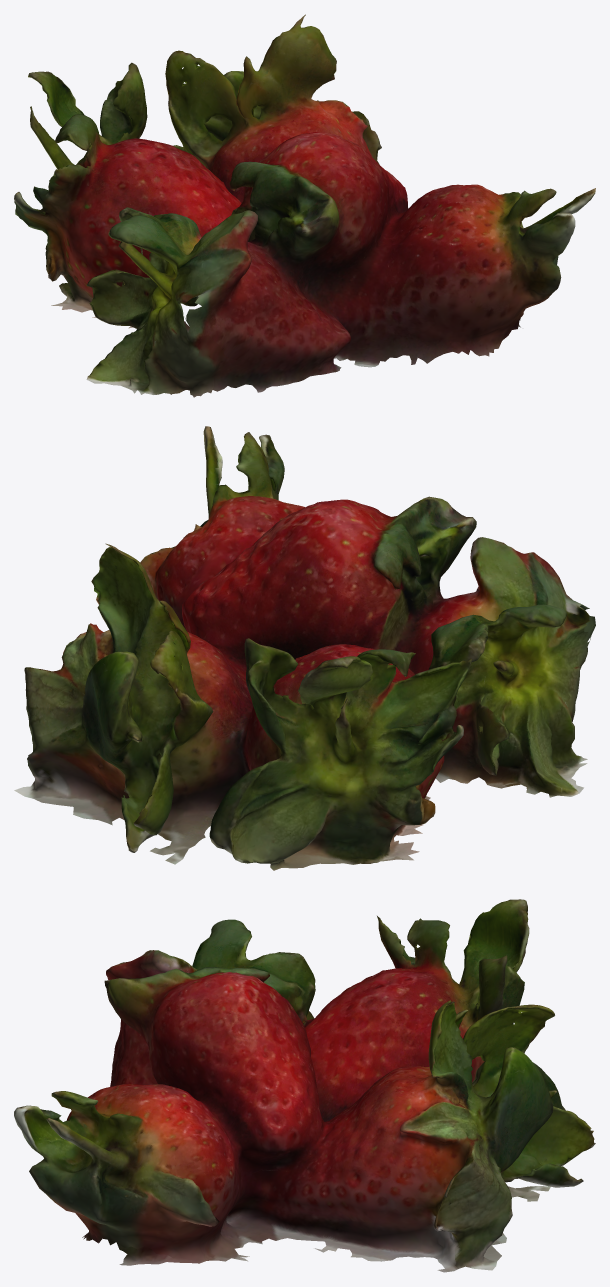
The model's file is Strawberries.fbx.
3 views of the same model, one above another, from view 1: azimuth 30°, elevation 25°; view 2: azimuth 150°, elevation 25°; view 3: azimuth 270°, elevation 25° (orthographic). The views are drawn at different scales.
Visible parts, largest first — view 1: Object; view 2: Object; view 3: Object.
Part boxes in pixels (x1,y1,x2,y2): Object: [14, 14, 595, 397]; Object: [14, 426, 595, 870]; Object: [14, 899, 595, 1272].
Bounding box in the file's own units: 112 × 57.72 × 126.
